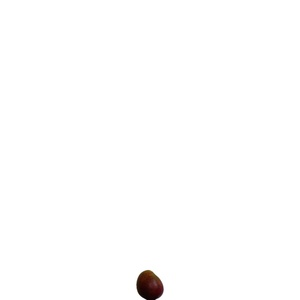manga: (137, 270, 164, 300)
